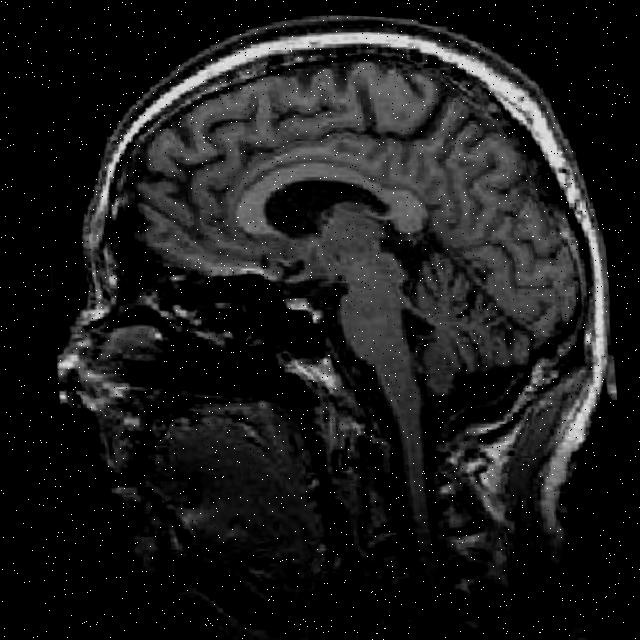NoTumor: (68, 3, 618, 421)
